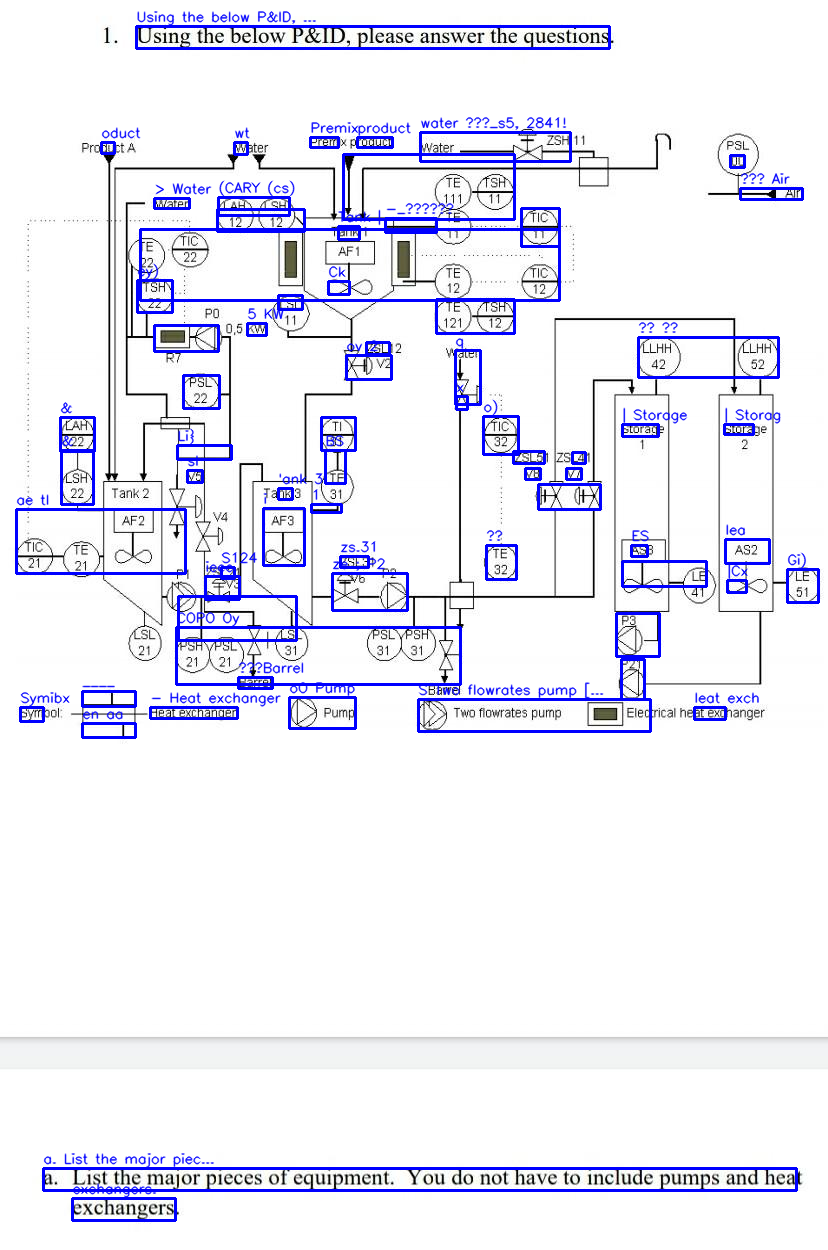Bomba: (375, 579, 412, 615), (165, 581, 200, 616), (613, 623, 647, 658), (616, 665, 649, 700), (193, 321, 225, 355)
Instrumento: (431, 261, 475, 300), (169, 229, 211, 269), (270, 292, 310, 334), (179, 371, 221, 410), (215, 194, 254, 236), (61, 539, 101, 579), (126, 235, 167, 274), (256, 195, 297, 234), (475, 296, 516, 335), (125, 623, 165, 662), (520, 207, 560, 246), (364, 622, 402, 663), (432, 296, 473, 334), (13, 538, 55, 575), (273, 623, 311, 663), (432, 209, 472, 247), (134, 277, 175, 314), (319, 415, 357, 454), (60, 414, 97, 454), (208, 634, 245, 674), (399, 624, 437, 662), (173, 635, 209, 675), (476, 172, 513, 210), (521, 263, 558, 301), (60, 466, 95, 506), (483, 416, 518, 455), (434, 172, 473, 207), (482, 545, 519, 580), (319, 469, 355, 504)
Misturador: (323, 261, 377, 299), (723, 560, 769, 597), (620, 559, 665, 596), (262, 528, 305, 565), (112, 531, 155, 568)
Outro: (712, 129, 763, 182), (634, 333, 688, 379), (732, 334, 781, 380), (782, 566, 820, 609), (681, 566, 716, 607)
Tanque: (717, 392, 776, 618), (612, 391, 671, 613), (302, 214, 396, 321), (249, 478, 315, 627), (100, 478, 165, 627)
TrocadordeCalor: (275, 229, 305, 289), (389, 229, 420, 287), (444, 579, 479, 613), (577, 155, 611, 190), (152, 323, 192, 351), (157, 415, 193, 430)
Válvula: (167, 485, 204, 530), (510, 126, 547, 163), (533, 476, 568, 514), (571, 475, 605, 514), (340, 346, 375, 383), (451, 376, 484, 414), (329, 570, 362, 606), (194, 518, 225, 555), (435, 636, 464, 675), (245, 618, 270, 660), (205, 576, 233, 604)
